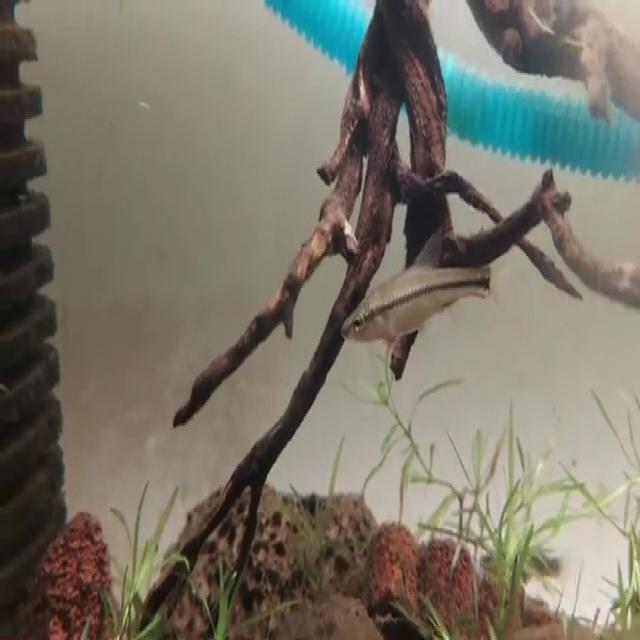Cakil Baligi: (344, 221, 502, 355)
